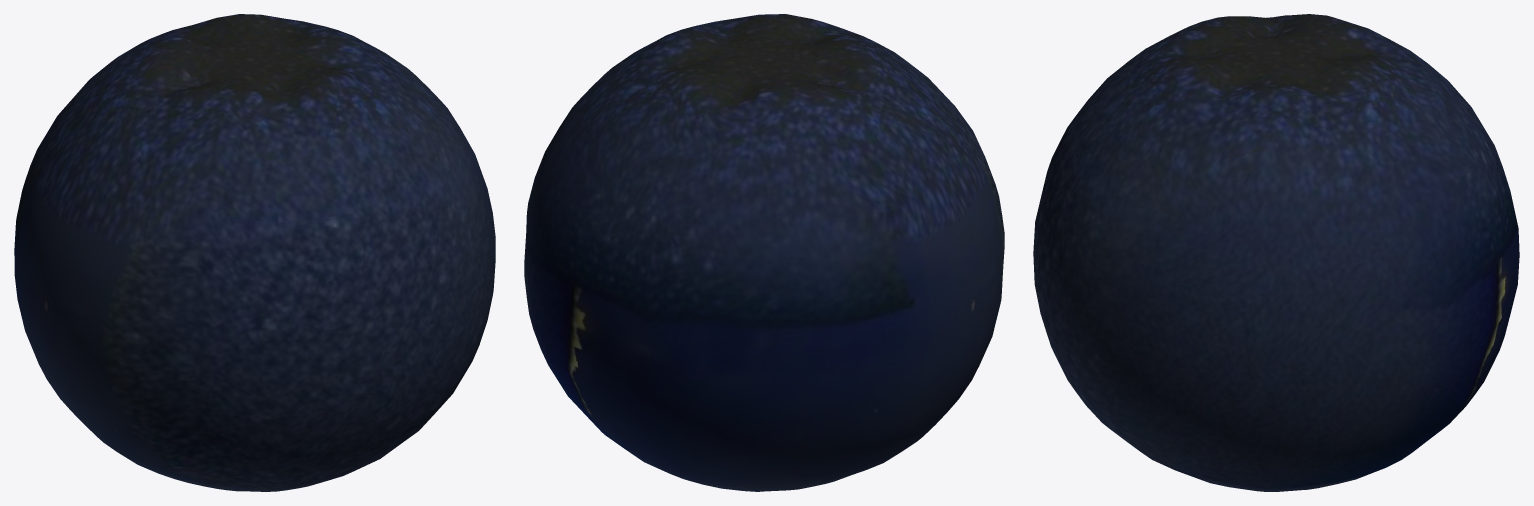
The model's file is Blueberry.fbx.
The picture shows the model from 3 angles, left to right: view 1: azimuth 30°, elevation 25°; view 2: azimuth 150°, elevation 25°; view 3: azimuth 270°, elevation 25°; orthographic projection.
Visible parts, largest first — view 1: Blueberry; view 2: Blueberry; view 3: Blueberry.
Boxes of the visible parts, x1,y1,x2,y2 form: Blueberry: (14, 14, 495, 491); Blueberry: (524, 14, 1004, 491); Blueberry: (1033, 14, 1519, 491).
Size of the model in its own units: 0.029 by 0.027 by 0.029.
Materials: 1 (1 with a texture image).
